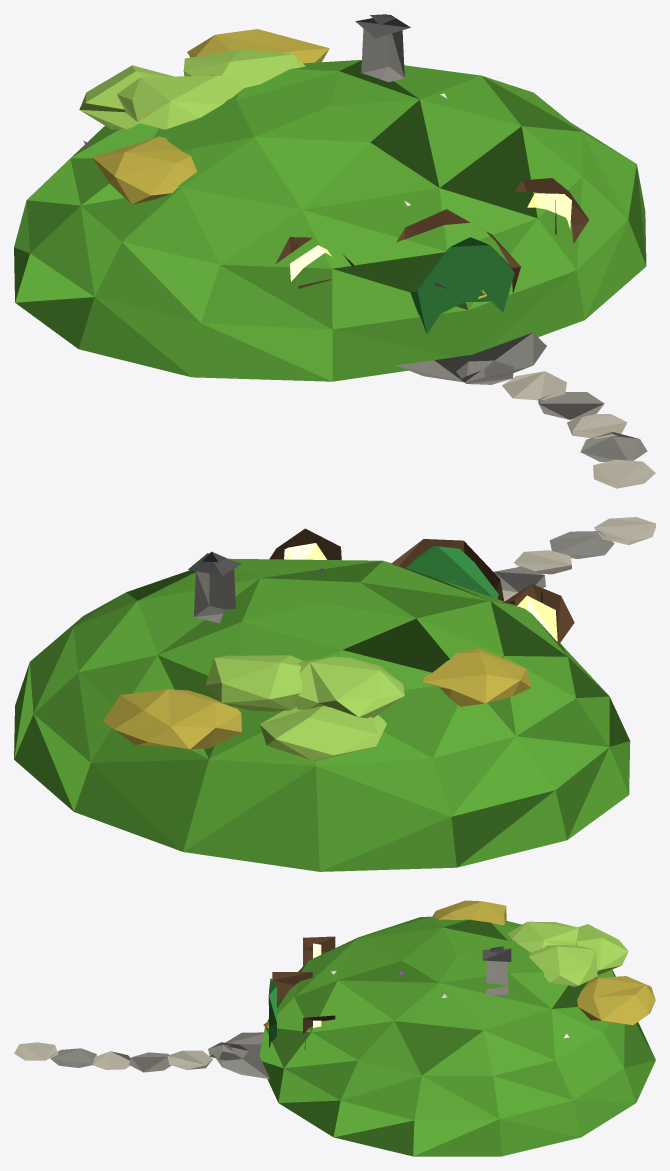
The model's file is hobbit_hole_1_lod1.glb.
3 views of the same model, one above another, from view 1: azimuth 30°, elevation 25°; view 2: azimuth 150°, elevation 25°; view 3: azimuth 270°, elevation 25° (orthographic). The views are drawn at different scales.
Parts seen in each view (by area): view 1: hobbit_hole_1_lod1; view 2: hobbit_hole_1_lod1; view 3: hobbit_hole_1_lod1.
Boxes of the visible parts, bbox=[...] form: hobbit_hole_1_lod1: bbox=[14, 14, 655, 488]; hobbit_hole_1_lod1: bbox=[14, 517, 655, 871]; hobbit_hole_1_lod1: bbox=[14, 900, 655, 1156].
Bounding box in the file's own units: 11.31 × 3.8 × 15.93.
